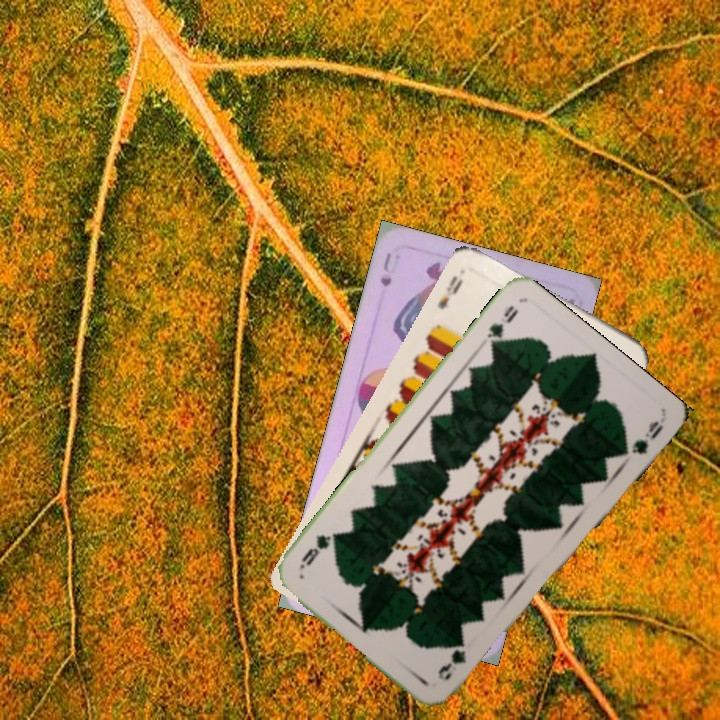E9: (433, 272, 466, 312)
G9: (483, 301, 522, 352), (433, 646, 469, 684)
SU: (376, 248, 403, 289)
